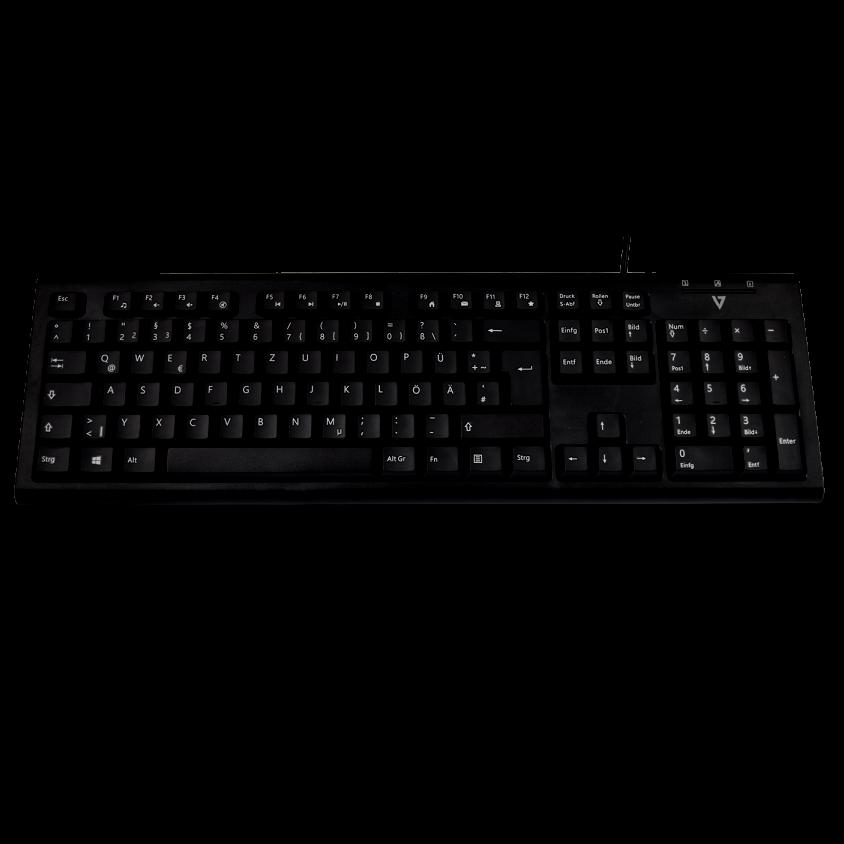0: (378, 315, 404, 341)
1: (79, 316, 104, 342)
2: (112, 315, 138, 342)
3: (145, 314, 171, 342)
4: (179, 314, 204, 341)
5: (212, 315, 237, 342)
6: (246, 316, 271, 342)
7: (279, 315, 304, 342)
8: (312, 315, 337, 342)
9: (345, 315, 371, 342)
a: (99, 378, 124, 404)
accent: (445, 315, 470, 341)
ae: (439, 378, 464, 404)
alt-left: (118, 443, 154, 472)
altgr-right: (378, 442, 414, 471)
b: (249, 409, 275, 436)
c: (182, 410, 206, 437)
caret: (45, 316, 71, 342)
comma: (353, 410, 378, 437)
d: (167, 378, 191, 404)
del: (480, 314, 538, 342)
e: (160, 347, 184, 373)
enter: (498, 346, 541, 405)
f: (201, 378, 225, 404)
g: (235, 378, 259, 404)
h: (269, 378, 293, 404)
hash: (472, 377, 497, 404)
i: (329, 347, 353, 372)
j: (303, 378, 327, 404)
k: (337, 378, 361, 404)
keyboard: (8, 268, 825, 501)
l: (371, 378, 395, 404)
less: (79, 410, 105, 438)
m: (319, 410, 344, 437)
minus: (421, 410, 446, 436)
n: (285, 410, 310, 436)
o: (362, 346, 387, 372)
oe: (404, 378, 429, 404)
p: (395, 346, 421, 372)
plus: (463, 346, 489, 373)
point: (387, 410, 413, 437)
q: (92, 347, 118, 373)
r: (194, 346, 219, 372)
s: (133, 378, 157, 405)
shift-left: (35, 411, 71, 438)
shift-lock: (39, 378, 90, 405)
shift-right: (457, 410, 543, 437)
space: (162, 443, 372, 475)
ss: (411, 315, 438, 342)
strg-left: (31, 443, 69, 472)
strg-right: (506, 442, 545, 474)
t: (228, 347, 252, 372)
tab: (42, 346, 84, 373)
u: (295, 347, 319, 372)
ue: (430, 346, 455, 373)
v: (216, 410, 241, 436)
w: (127, 346, 152, 372)
x: (148, 410, 172, 437)
y: (114, 411, 138, 436)
z: (262, 347, 286, 372)
